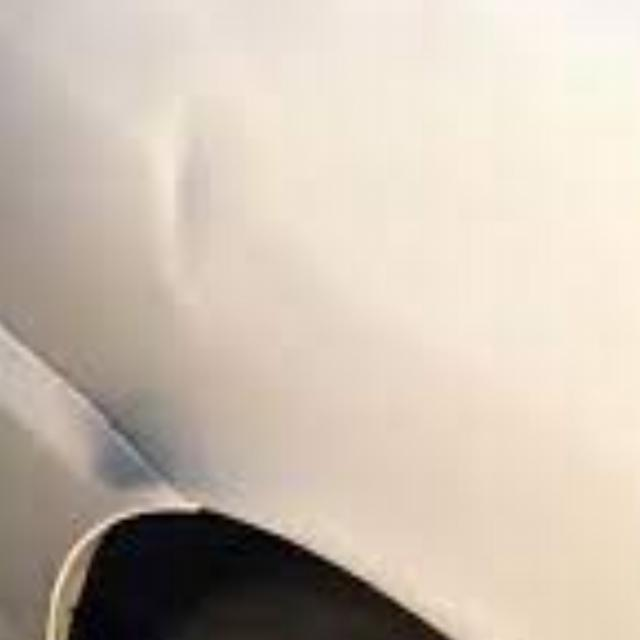dents: (110, 104, 256, 322)
